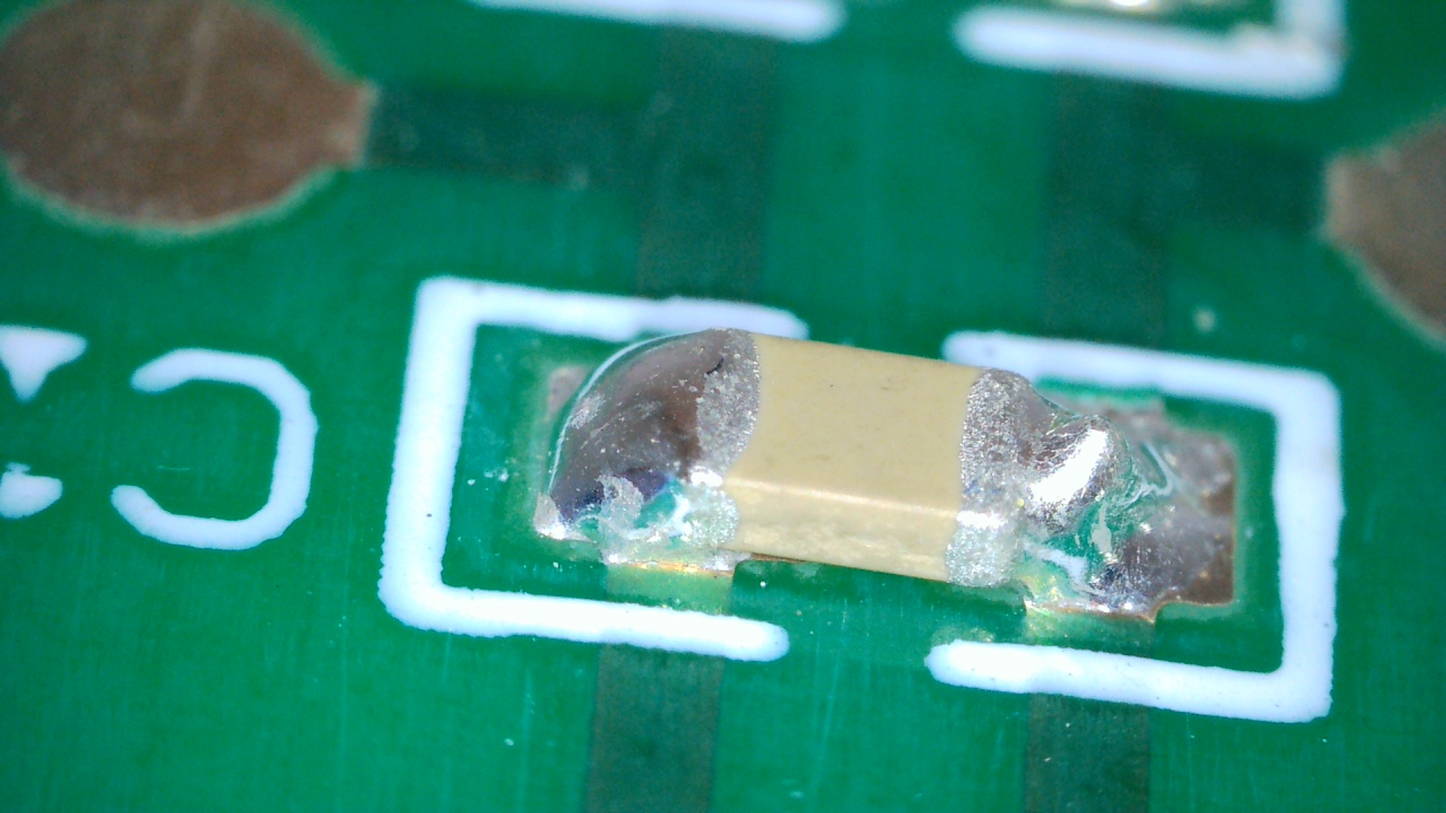NG: (962, 368, 1226, 617), (539, 328, 752, 559), (1017, 419, 1136, 540)
